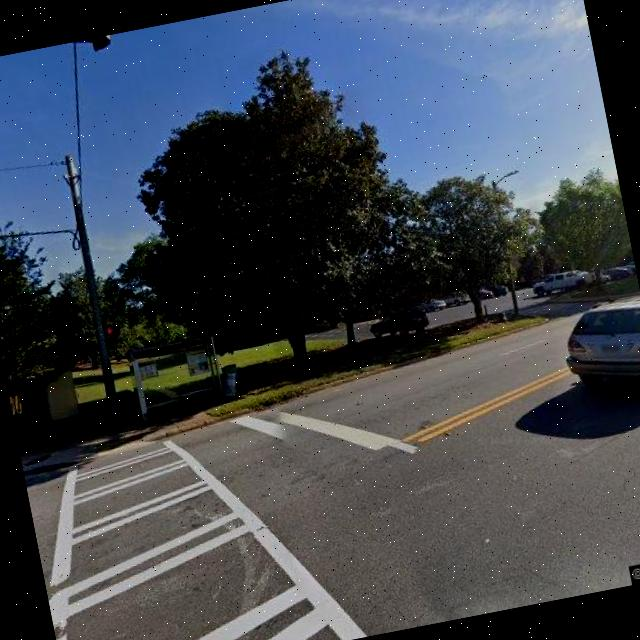seating: (180, 388, 214, 408)
shelter: (129, 334, 232, 420)
trash_can: (220, 370, 241, 400)
